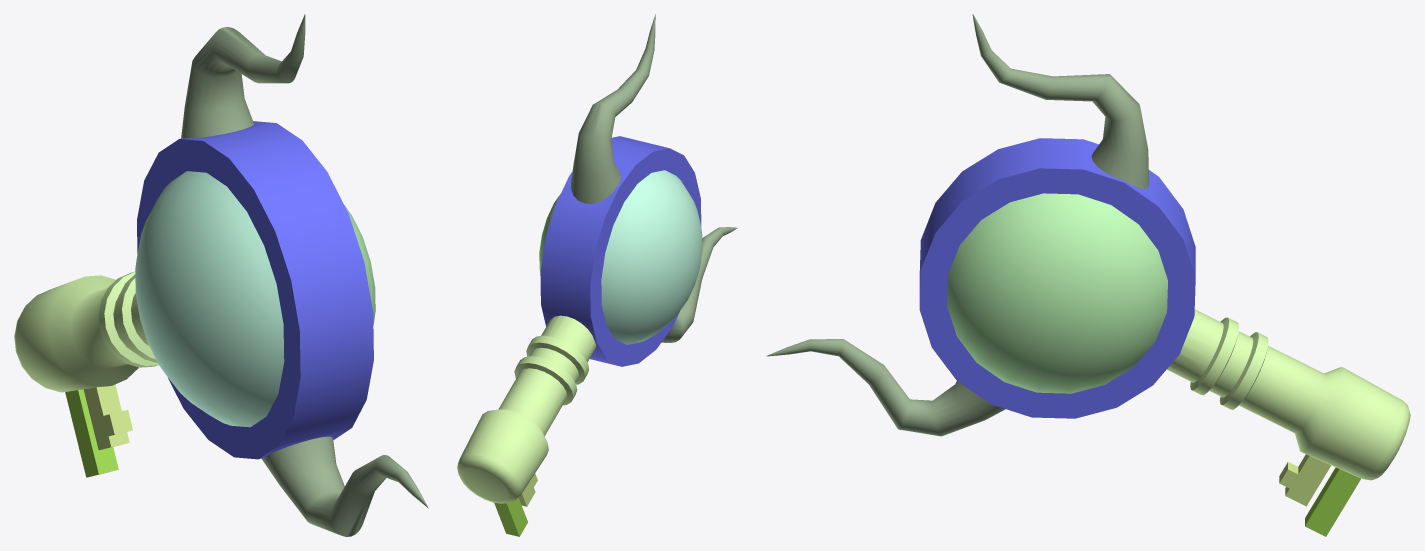
3 renders of one model, left to right at view 1: azimuth 30°, elevation 25°; view 2: azimuth 150°, elevation 25°; view 3: azimuth 270°, elevation 25°, orthographic. The views are drawn at different scales.
Parts seen in each view (by area): view 1: Demon_Key:pCube4_Demon_Key:aiAmbientOcclusion1_0.001, Demon_Key:pCube4_Demon_Key:aiAmbientOcclusion1_0.003, split_parent_4, Demon_Key:pCube4_Demon_Key:aiAmbientOcclusion1_0, Demon_Key:pCube4_Demon_Key:aiAmbientOcclusion1_0.026, Demon_Key:pCube4_Demon_Key:aiAmbientOcclusion1_0.007, Demon_Key:pCube4_Demon_Key:aiAmbientOcclusion1_0.004; view 2: Demon_Key:pCube4_Demon_Key:aiAmbientOcclusion1_0.003, Demon_Key:pCube4_Demon_Key:aiAmbientOcclusion1_0.001, Demon_Key:pCube4_Demon_Key:aiAmbientOcclusion1_0, split_parent_4, Demon_Key:pCube4_Demon_Key:aiAmbientOcclusion1_0.007; view 3: Demon_Key:pCube4_Demon_Key:aiAmbientOcclusion1_0.004, Demon_Key:pCube4_Demon_Key:aiAmbientOcclusion1_0.001, Demon_Key:pCube4_Demon_Key:aiAmbientOcclusion1_0, split_parent_4, Demon_Key:pCube4_Demon_Key:aiAmbientOcclusion1_0.007, Demon_Key:pCube4_Demon_Key:aiAmbientOcclusion1_0.026.
Boxes of the visible parts, x1=… form: Demon_Key:pCube4_Demon_Key:aiAmbientOcclusion1_0.001: x1=137, y1=121, x2=373, y2=459; Demon_Key:pCube4_Demon_Key:aiAmbientOcclusion1_0.003: x1=135, y1=171, x2=284, y2=427; split_parent_4: x1=181, y1=14, x2=428, y2=536; Demon_Key:pCube4_Demon_Key:aiAmbientOcclusion1_0: x1=14, y1=271, x2=158, y2=392; Demon_Key:pCube4_Demon_Key:aiAmbientOcclusion1_0.026: x1=83, y1=384, x2=132, y2=450; Demon_Key:pCube4_Demon_Key:aiAmbientOcclusion1_0.007: x1=65, y1=389, x2=118, y2=477; Demon_Key:pCube4_Demon_Key:aiAmbientOcclusion1_0.004: x1=344, y1=205, x2=375, y2=325; Demon_Key:pCube4_Demon_Key:aiAmbientOcclusion1_0.003: x1=601, y1=170, x2=702, y2=344; Demon_Key:pCube4_Demon_Key:aiAmbientOcclusion1_0.001: x1=540, y1=136, x2=701, y2=366; Demon_Key:pCube4_Demon_Key:aiAmbientOcclusion1_0: x1=457, y1=315, x2=596, y2=503; split_parent_4: x1=571, y1=14, x2=737, y2=342; Demon_Key:pCube4_Demon_Key:aiAmbientOcclusion1_0.007: x1=494, y1=498, x2=527, y2=536; Demon_Key:pCube4_Demon_Key:aiAmbientOcclusion1_0.004: x1=947, y1=193, x2=1167, y2=393; Demon_Key:pCube4_Demon_Key:aiAmbientOcclusion1_0.001: x1=919, y1=138, x2=1195, y2=418; Demon_Key:pCube4_Demon_Key:aiAmbientOcclusion1_0: x1=1167, y1=309, x2=1410, y2=480; split_parent_4: x1=766, y1=14, x2=1149, y2=436; Demon_Key:pCube4_Demon_Key:aiAmbientOcclusion1_0.007: x1=1305, y1=467, x2=1361, y2=536; Demon_Key:pCube4_Demon_Key:aiAmbientOcclusion1_0.026: x1=1279, y1=454, x2=1330, y2=506.
Size of the model in its own units: 0.2932 by 0.8882 by 1.
